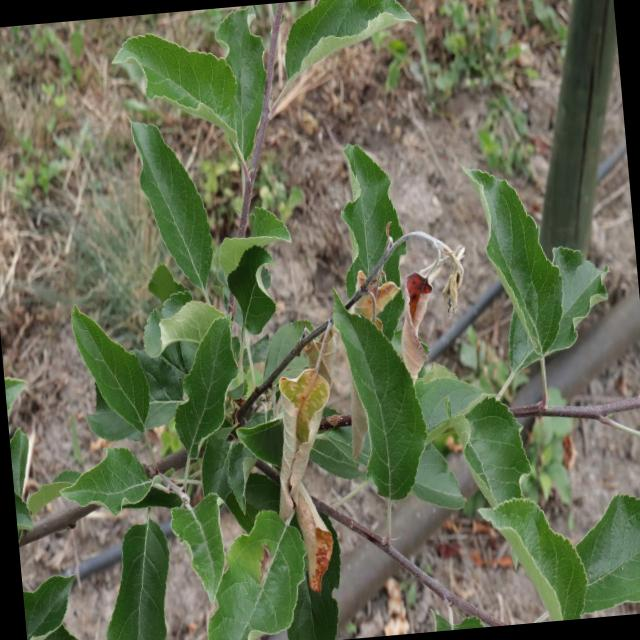-FireBlight-: (272, 364, 352, 590), (350, 268, 436, 364)
